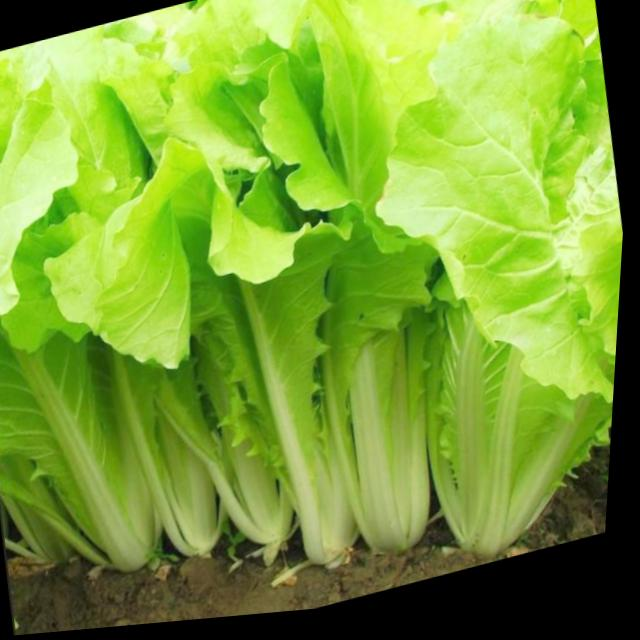chinese_cabbage: (330, 0, 640, 561), (248, 3, 469, 581), (103, 65, 311, 627), (195, 28, 394, 598), (0, 70, 194, 632)
